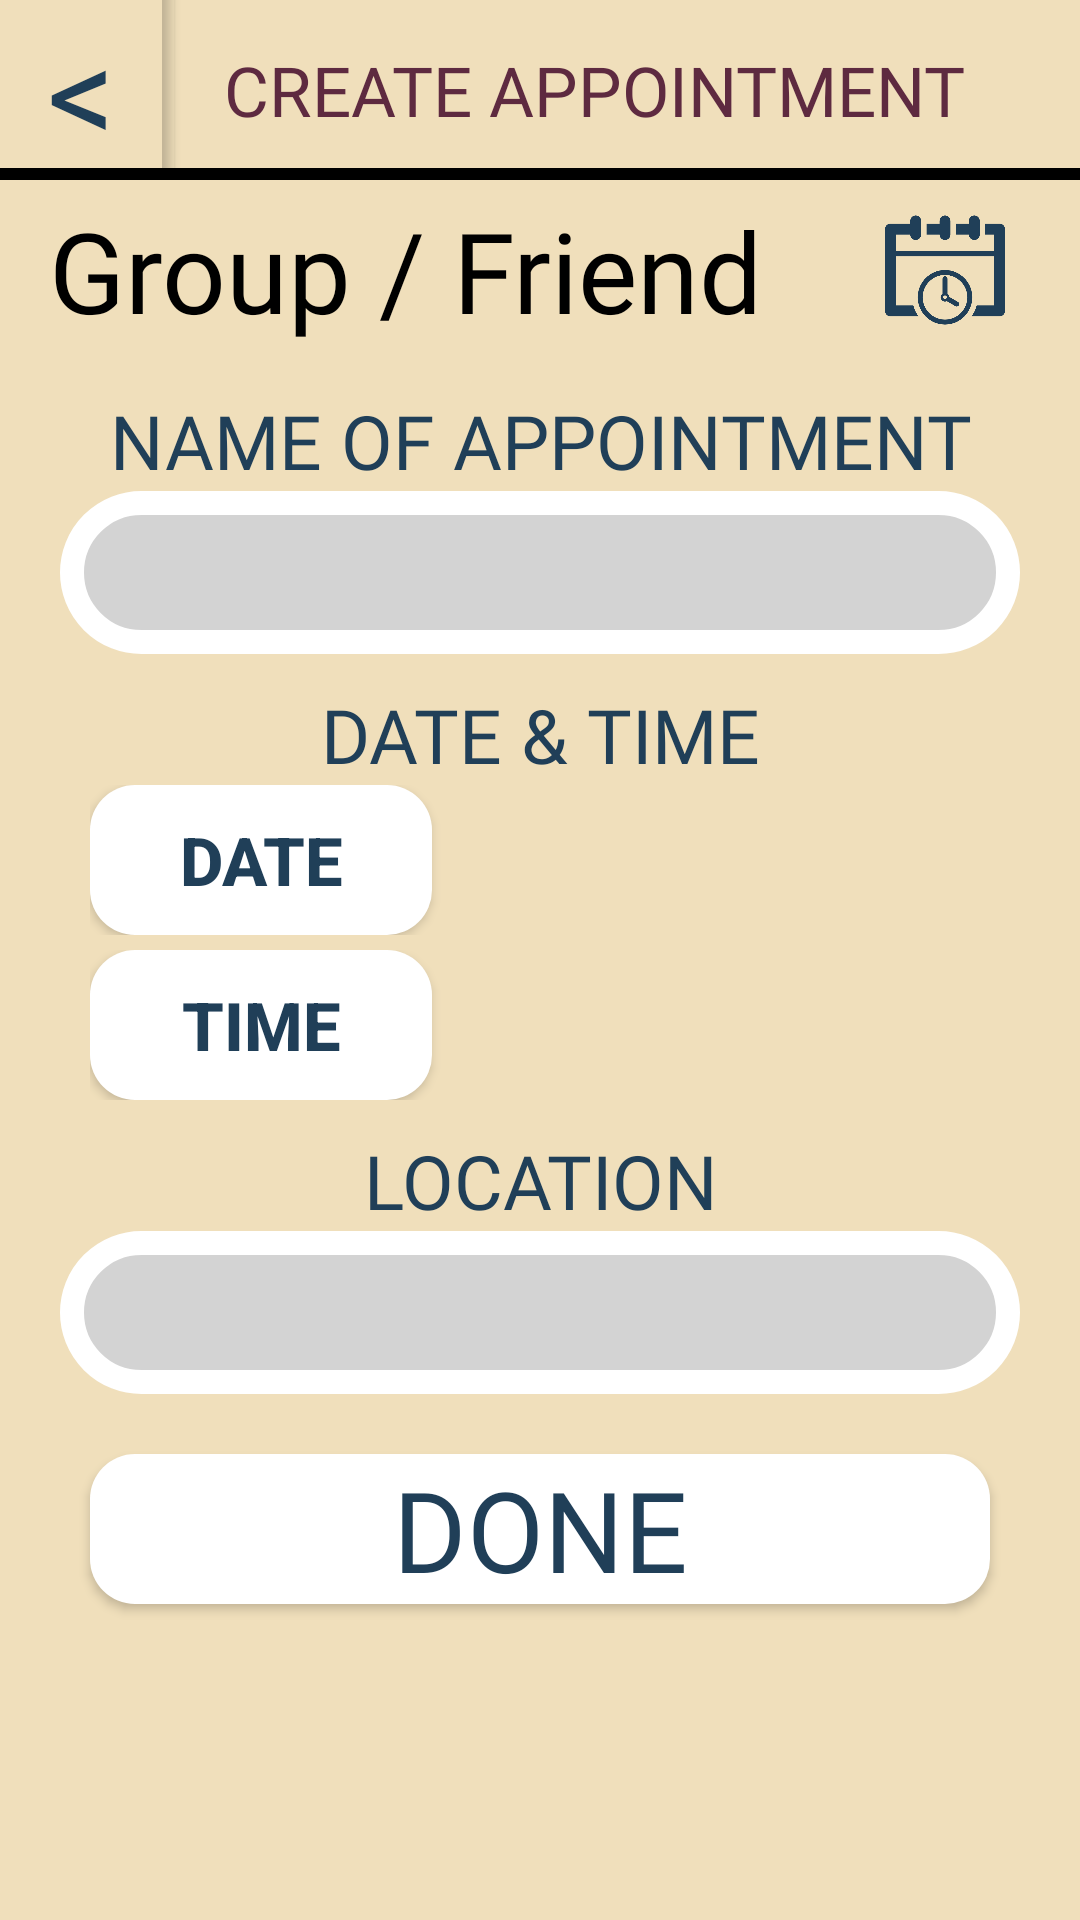

Icon click points for this 1080px x 1920px phone screenshot, format point (x, y):
appt: point (945, 270)
